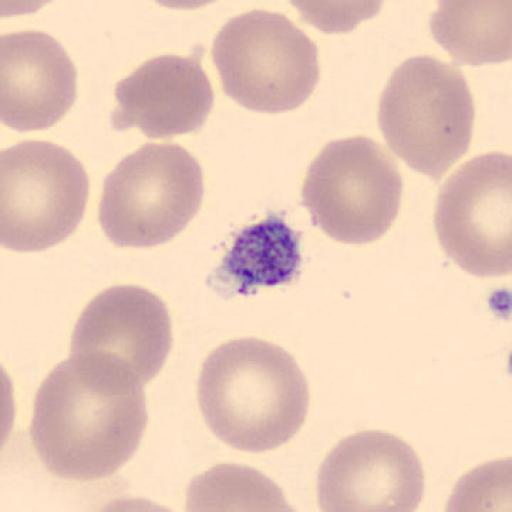Platelet: (204, 210, 308, 299)
RBC: (28, 350, 150, 485), (194, 333, 312, 455), (374, 52, 476, 182), (209, 7, 323, 116), (97, 140, 206, 251), (300, 134, 404, 248), (67, 282, 175, 388), (1, 136, 91, 255), (434, 149, 512, 280), (314, 427, 428, 512), (111, 51, 216, 141), (2, 28, 78, 134), (182, 461, 306, 512), (428, 0, 512, 68), (442, 454, 512, 512), (284, 0, 386, 35), (80, 493, 191, 512), (0, 358, 18, 453), (139, 0, 237, 11), (2, 0, 61, 18)
